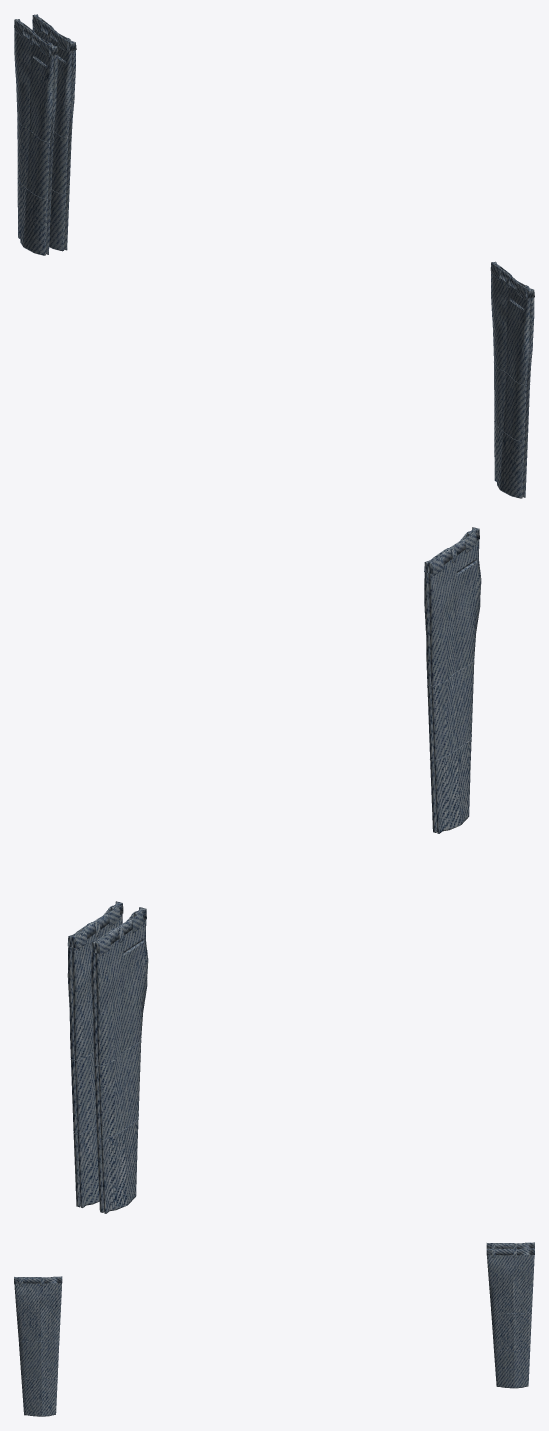
Rendered from yifu0905_kuzi01.fbx.
3 renders of one model, top to bottom at view 1: azimuth 30°, elevation 25°; view 2: azimuth 150°, elevation 25°; view 3: azimuth 270°, elevation 25°, orthographic. The views are drawn at different scales.
Visible parts, largest first — view 1: yifu0905_kuzi01; view 2: yifu0905_kuzi01; view 3: yifu0905_kuzi01.
Boxes of the visible parts, <box> form: yifu0905_kuzi01: <box>14,14,534,498</box>; yifu0905_kuzi01: <box>67,527,481,1213</box>; yifu0905_kuzi01: <box>14,1242,534,1416</box>.
Size of the model in its own units: 62.54 by 103 by 352.
